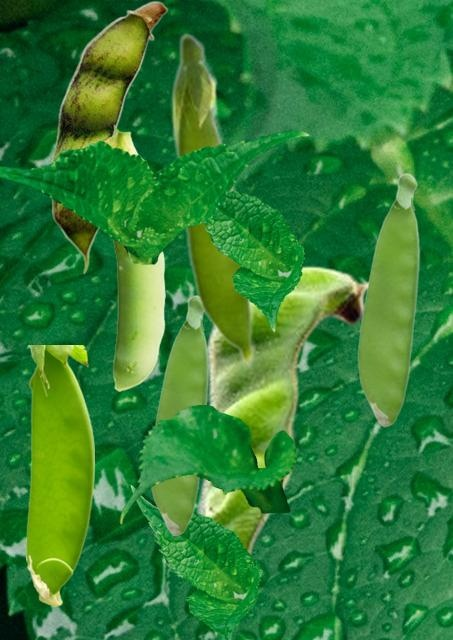pea: (196, 265, 367, 608), (51, 0, 167, 273), (170, 31, 256, 368), (26, 345, 93, 605), (104, 124, 164, 390), (357, 172, 419, 426), (151, 294, 208, 535)
